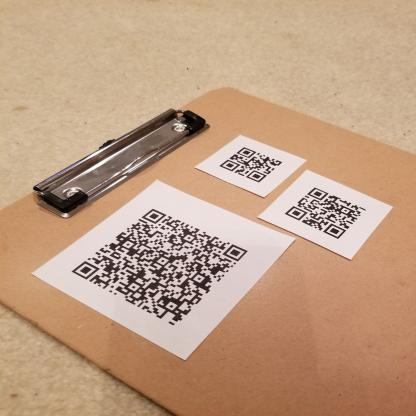qr: (79, 202, 250, 333), (279, 182, 373, 244), (216, 142, 288, 188)
